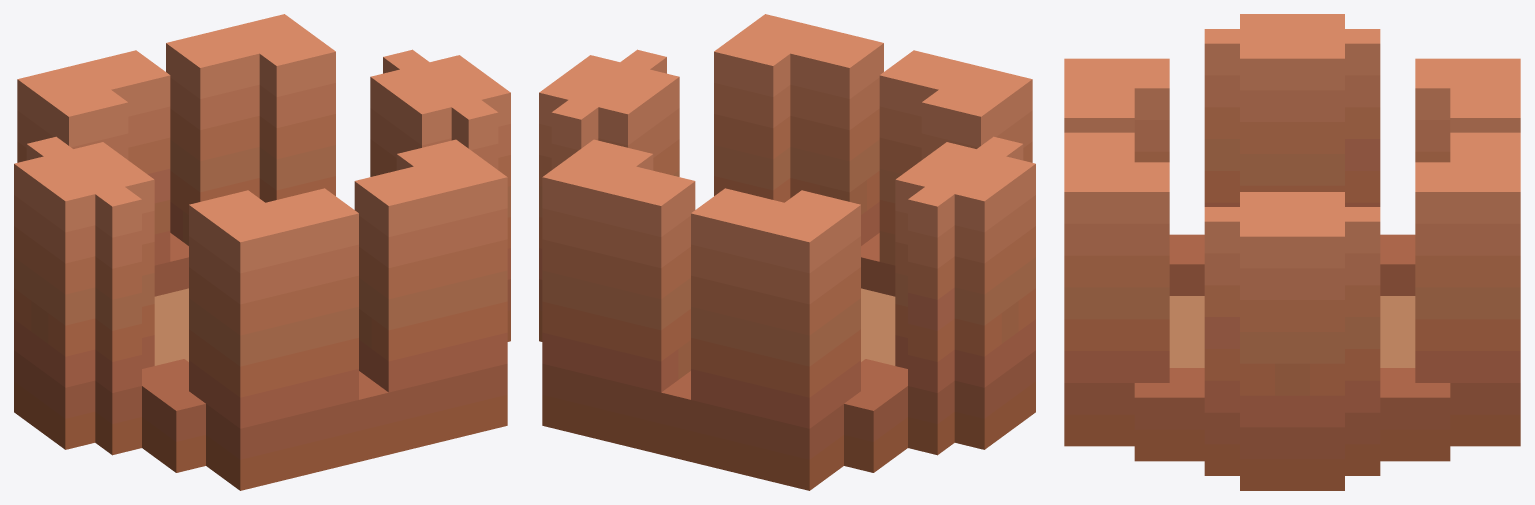
File: tower-hexagon-top-wood.glb
3 views of the same model, side by side, from view 1: azimuth 30°, elevation 25°; view 2: azimuth 150°, elevation 25°; view 3: azimuth 270°, elevation 25° (orthographic). The views are drawn at different scales.
Parts seen in each view (by area): view 1: tower-hexagon-top-wood; view 2: tower-hexagon-top-wood; view 3: tower-hexagon-top-wood.
Boxes of the visible parts, x1,y1,x2,y2 form: tower-hexagon-top-wood: (14, 14, 510, 490); tower-hexagon-top-wood: (539, 14, 1035, 490); tower-hexagon-top-wood: (1064, 14, 1520, 490).
Bounding box in the file's own units: 0.9375 × 0.5 × 0.8125.
Materials: 1 (1 with a texture image).
